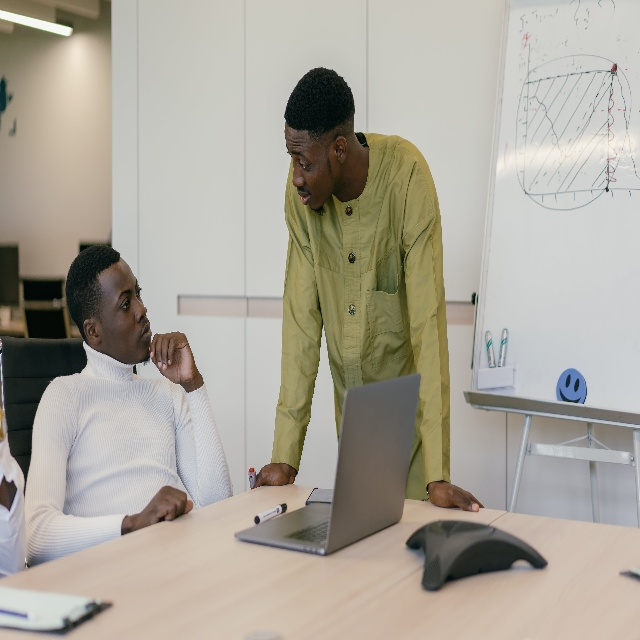Sin_guantes: (148, 329, 195, 381), (140, 485, 192, 526), (426, 480, 485, 512), (252, 464, 298, 490)
